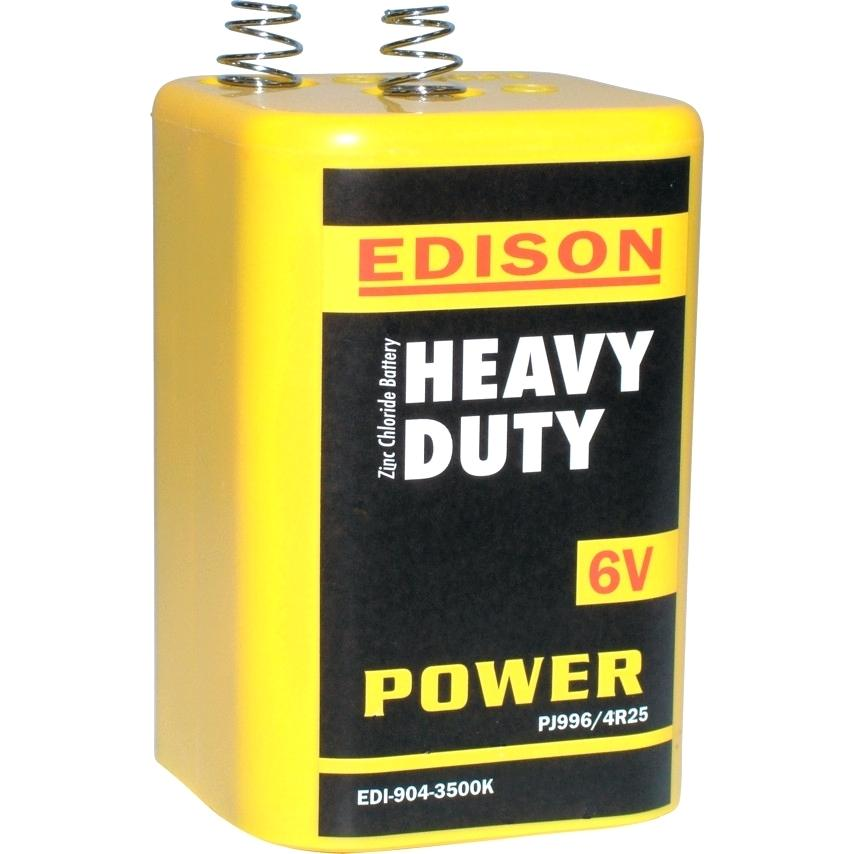6V: (128, 15, 720, 842)
